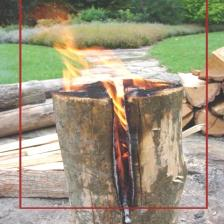fire: (19, 0, 207, 209)
